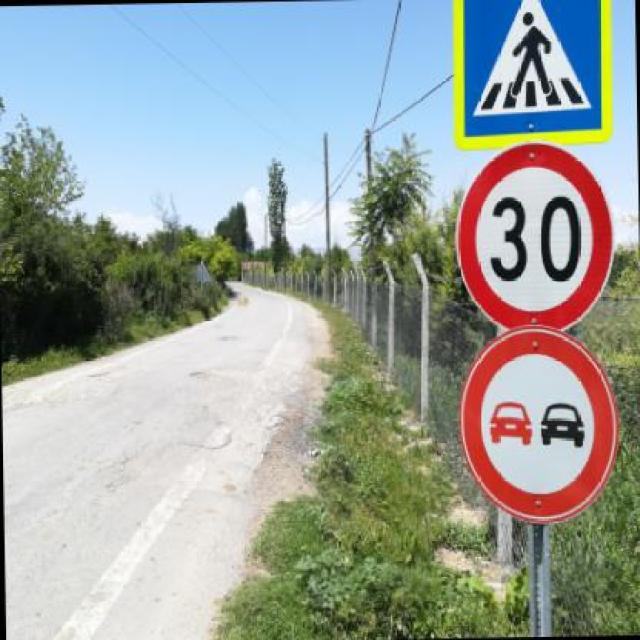yaya: (466, 1, 601, 130)
